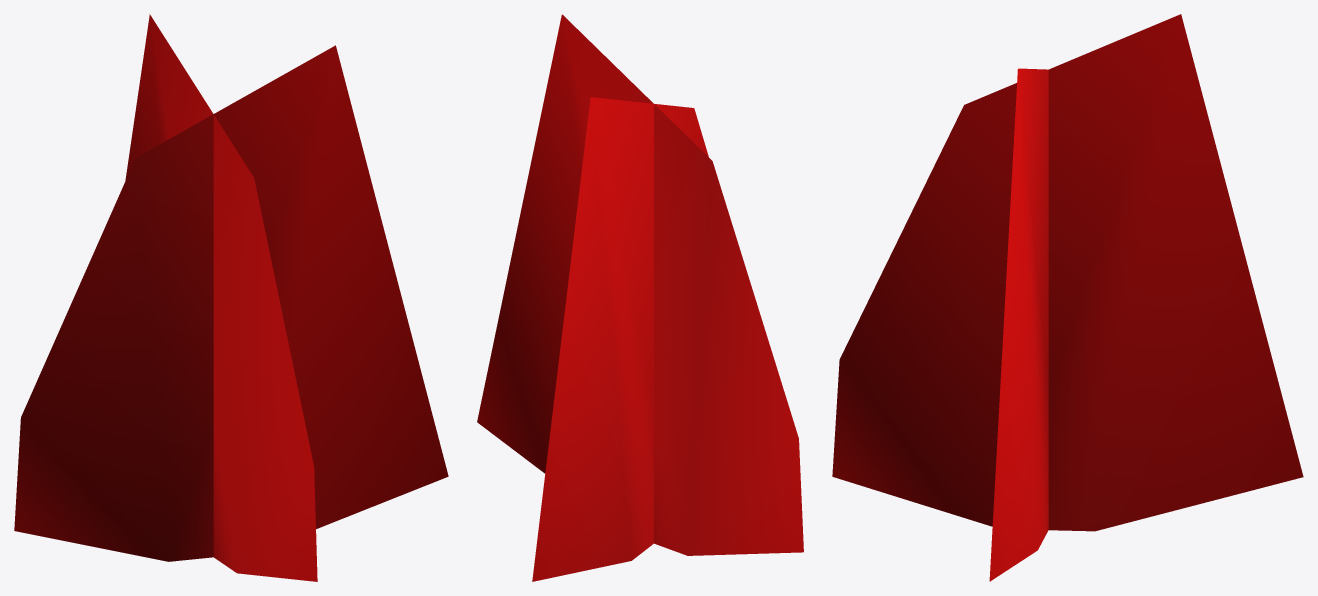
File: SM_BarleyPlant_3.fbx
3 renders of one model, left to right at view 1: azimuth 30°, elevation 25°; view 2: azimuth 150°, elevation 25°; view 3: azimuth 270°, elevation 25°, orthographic. The views are drawn at different scales.
Parts seen in each view (by area): view 1: SM_BarleyPlant_3; view 2: SM_BarleyPlant_3; view 3: SM_BarleyPlant_3.
Boxes of the visible parts, bbox=[...] form: SM_BarleyPlant_3: bbox=[14, 14, 448, 581]; SM_BarleyPlant_3: bbox=[477, 14, 803, 581]; SM_BarleyPlant_3: bbox=[832, 14, 1303, 581].
Bounding box in the file's own units: 0.3138 × 0.3907 × 0.3226.
